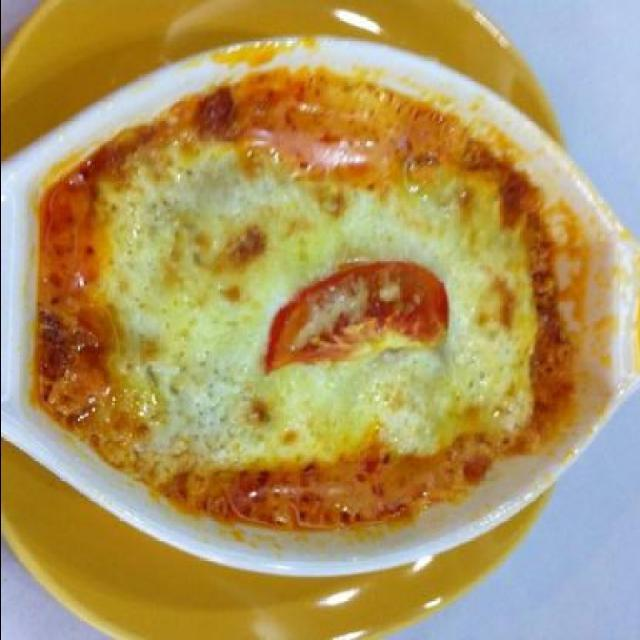Lasagna: (21, 100, 572, 518)
